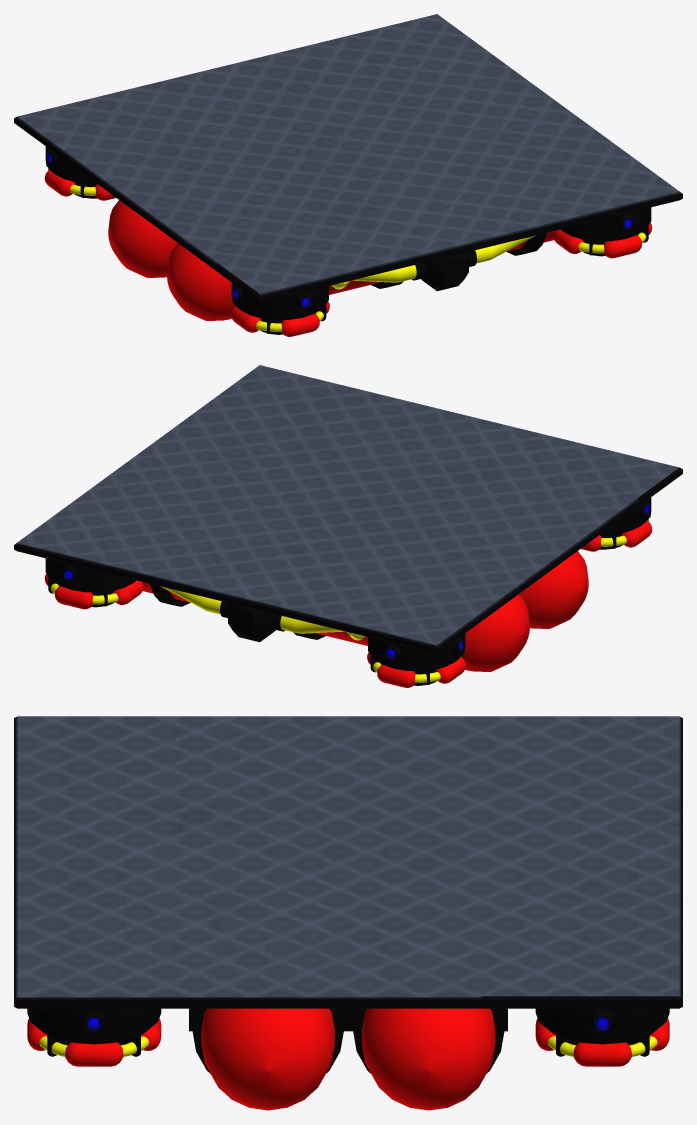
The model's file is building_platform.glb.
3 renders of one model, top to bottom at view 1: azimuth 30°, elevation 25°; view 2: azimuth 150°, elevation 25°; view 3: azimuth 270°, elevation 25°, orthographic. The views are drawn at different scales.
Parts seen in each view (by area): view 1: pCylinder53; view 2: pCylinder53; view 3: pCylinder53.
Boxes of the visible parts, bbox=[...] form: pCylinder53: bbox=[14, 14, 682, 336]; pCylinder53: bbox=[14, 365, 682, 687]; pCylinder53: bbox=[14, 716, 682, 1110].
Bounding box in the file's own units: 50 × 12.17 × 50.
1 material, 1 textured.
